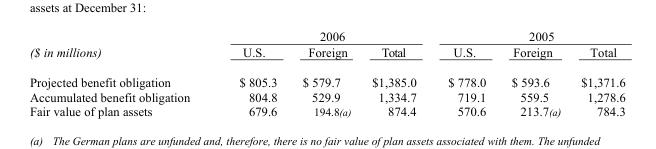table: (28, 28, 624, 118)
table column: (28, 28, 213, 118), (213, 28, 289, 118), (498, 28, 570, 118), (289, 28, 360, 118), (360, 28, 431, 118), (431, 28, 498, 118), (570, 28, 624, 118)
table column header: (28, 28, 624, 66)
table row: (28, 43, 624, 66), (28, 66, 624, 88), (28, 28, 624, 43), (28, 88, 624, 103), (28, 103, 624, 118)
table spanning cell: (28, 28, 213, 66), (213, 28, 431, 43), (431, 28, 624, 43)
